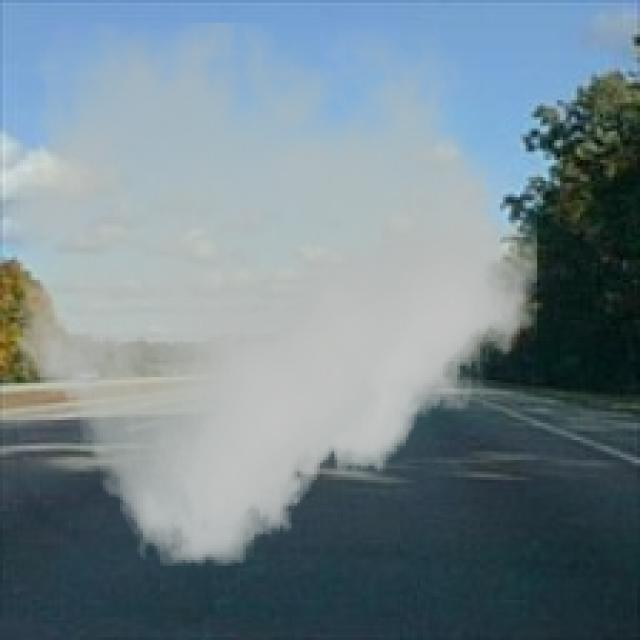smoke: (6, 23, 537, 566)
